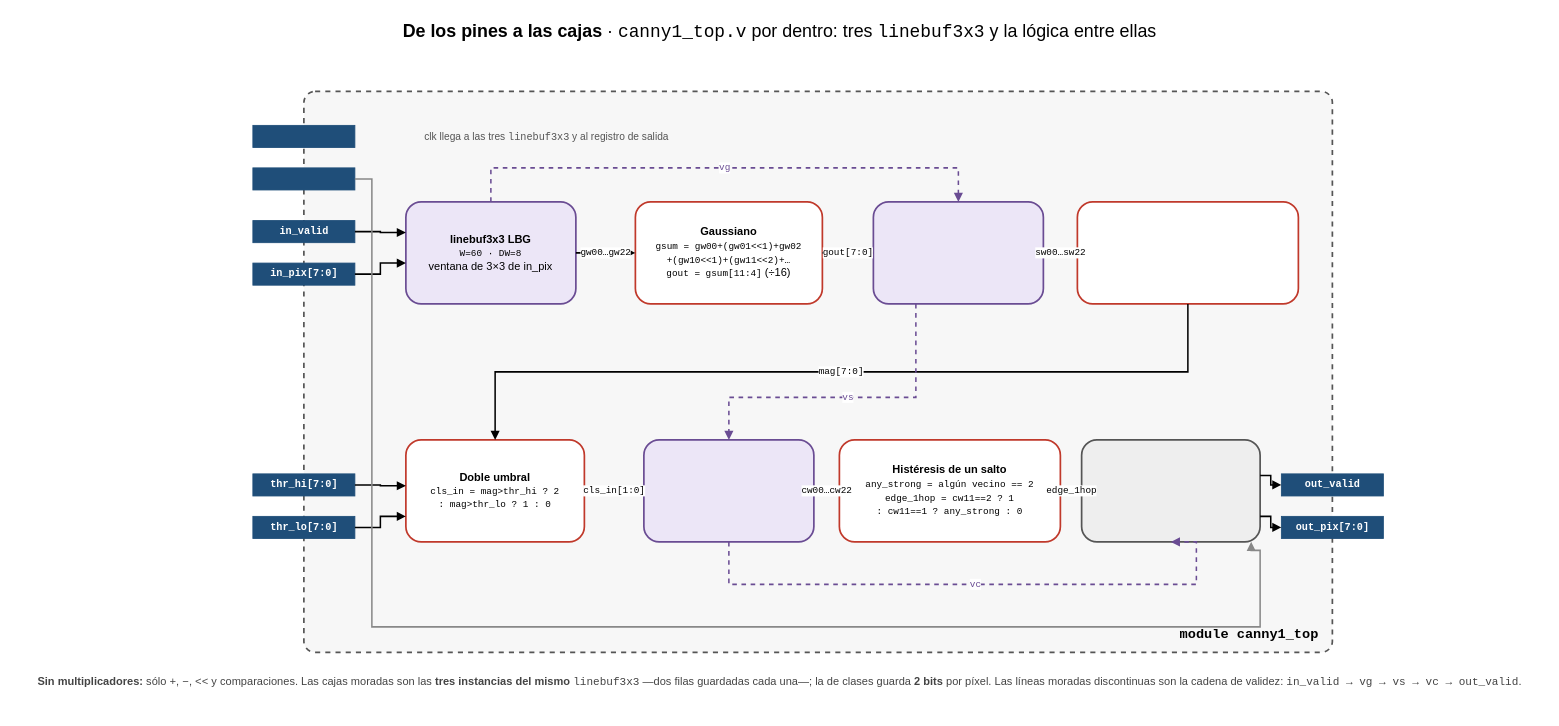
Some shapes in this 1559 by 726 pixel diagram are drawn without their labels. Here are the shapes that lost their labels. From the top down, the centre of each, then its label:
[303,136]: clk
[303,178]: reset
[958,252]: linebuf3x3 LBS W=60 · DW=8 ventana de 3×3 de gout
[1187,252]: Sobel agx=|gxp−gxn| agy=|gyp−gyn| mag = sat255(agx+agy)
[728,490]: linebuf3x3 LBC W=60 · DW=2 ventana de 3×3 de clases
[1170,490]: Registro de salida always @(posedge clk) out_pix <= edge_1hop ? FF : 00
